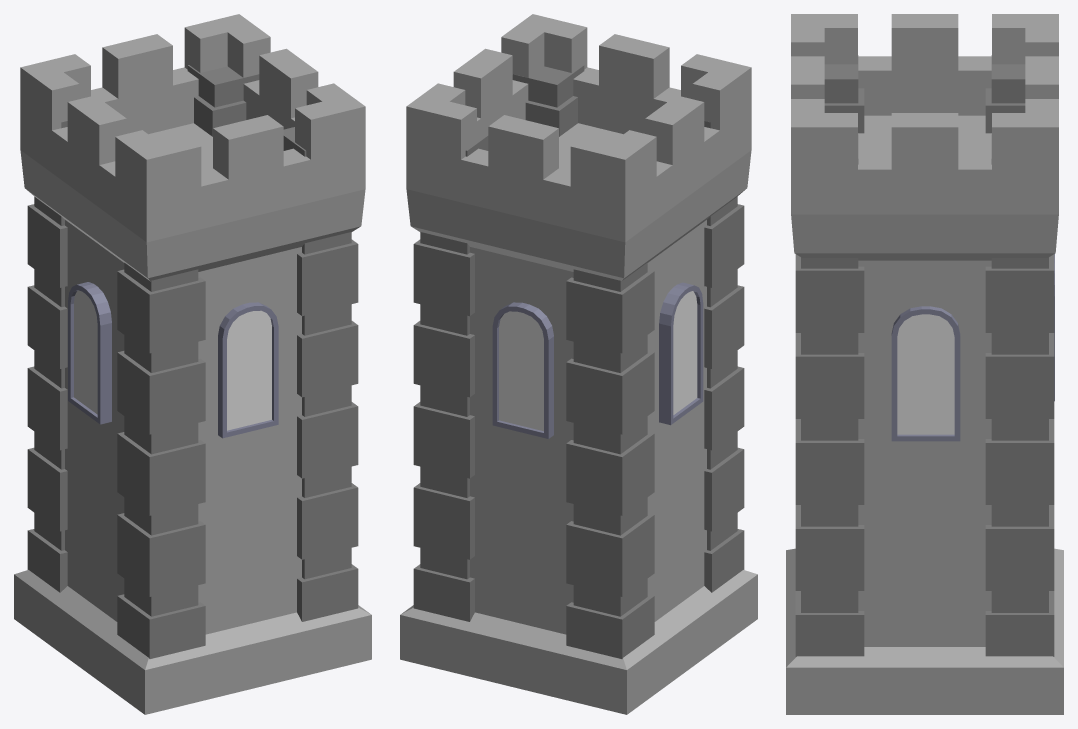
Rendered from tower.fbx.
The picture shows the model from 3 angles, left to right: view 1: azimuth 30°, elevation 25°; view 2: azimuth 150°, elevation 25°; view 3: azimuth 270°, elevation 25°; orthographic projection. The views are drawn at different scales.
Visible parts, largest first — view 1: Tower; view 2: Tower; view 3: Tower.
Part boxes in pixels (x1,y1,x2,y2): Tower: [14, 14, 371, 714]; Tower: [400, 14, 757, 714]; Tower: [786, 14, 1063, 714].
Bounding box in the file's own units: 810 × 1884 × 810.
